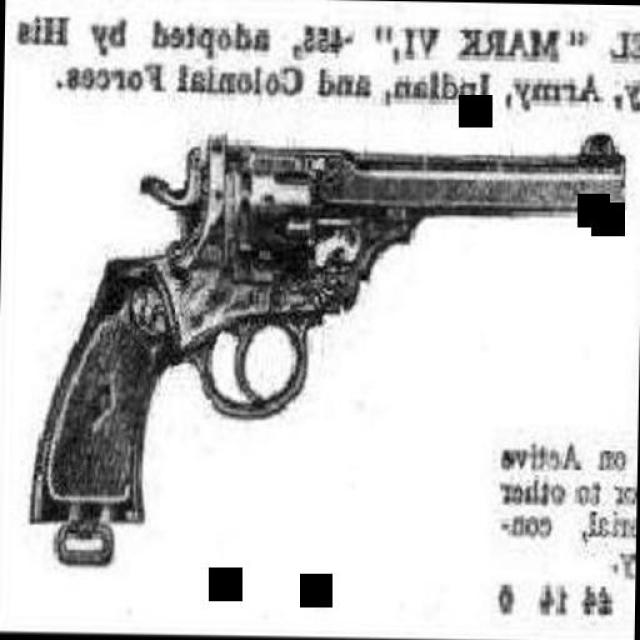gun: (24, 120, 625, 535)
